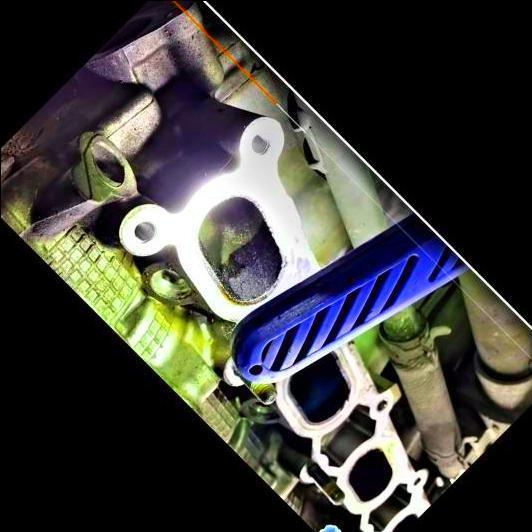hole: (128, 213, 162, 247), (245, 124, 278, 158), (372, 393, 393, 414)
